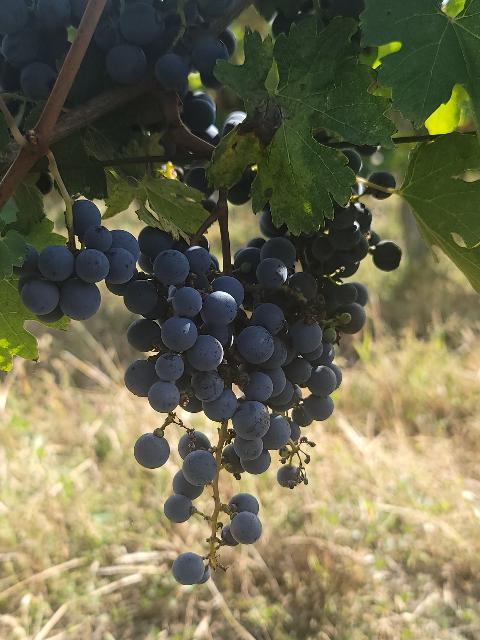grapes: (124, 228, 368, 521), (16, 200, 139, 322)
